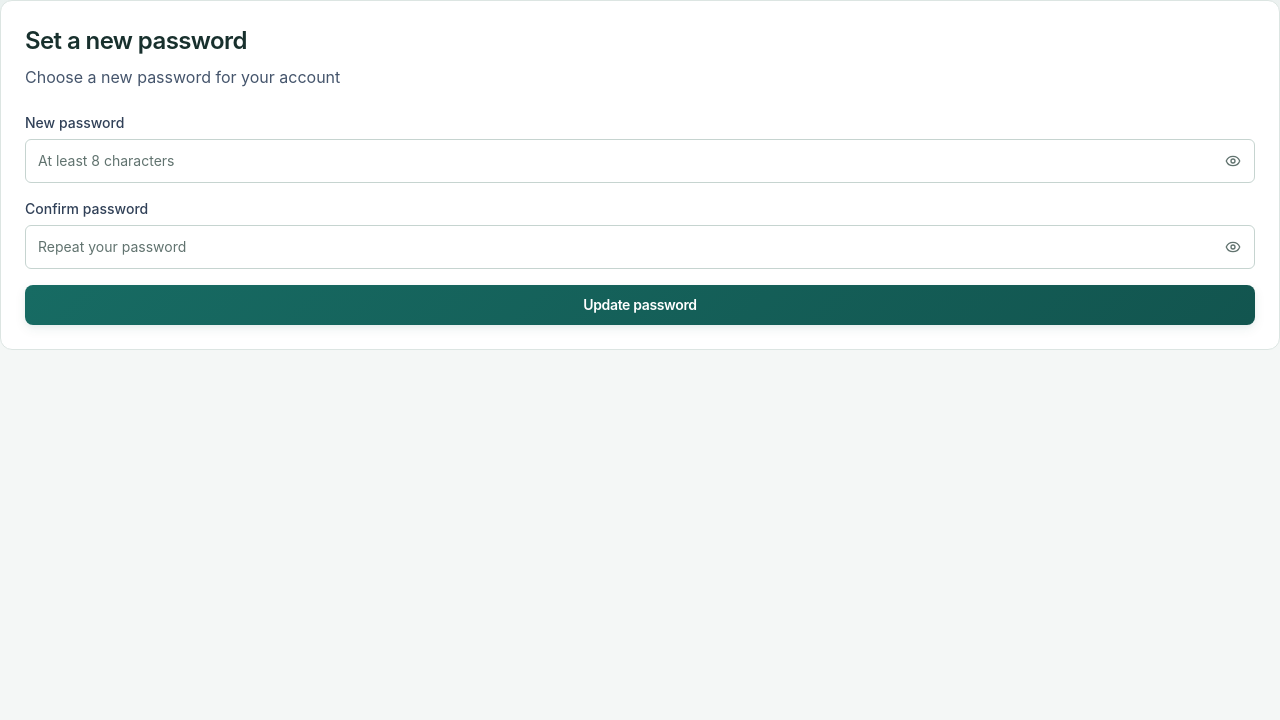
it: AuthPanel › update-password mode renders the set-new-password form without tabs
Expected: the heading "Set a new password" is shown, x1=25 y1=26 x2=247 y2=55
Expected: the password field labelled "Confirm password" is shown, x1=25 y1=225 x2=1255 y2=269
Step 1. Type "newpassword1" into the password field labelled "New password" → (640, 161), box x1=25 y1=139 x2=1255 y2=183
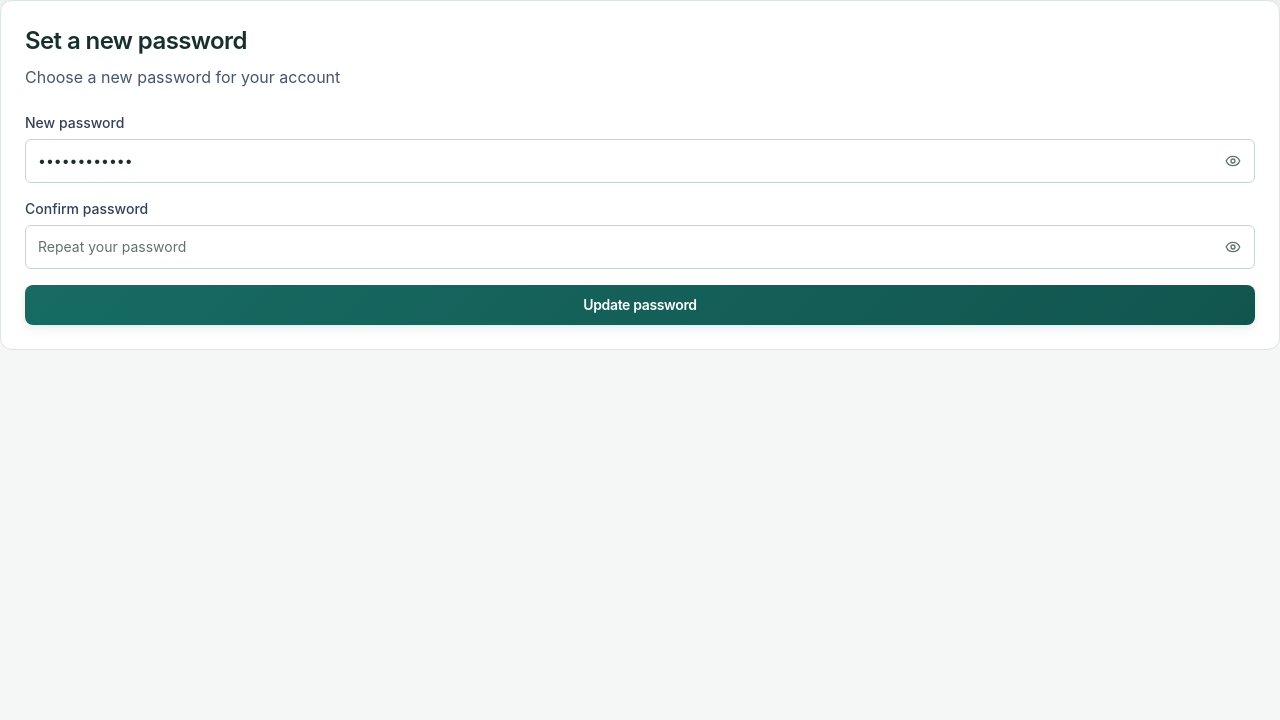
Step 2. Type "newpassword1" into the password field labelled "Confirm password" → (640, 247), box x1=25 y1=225 x2=1255 y2=269
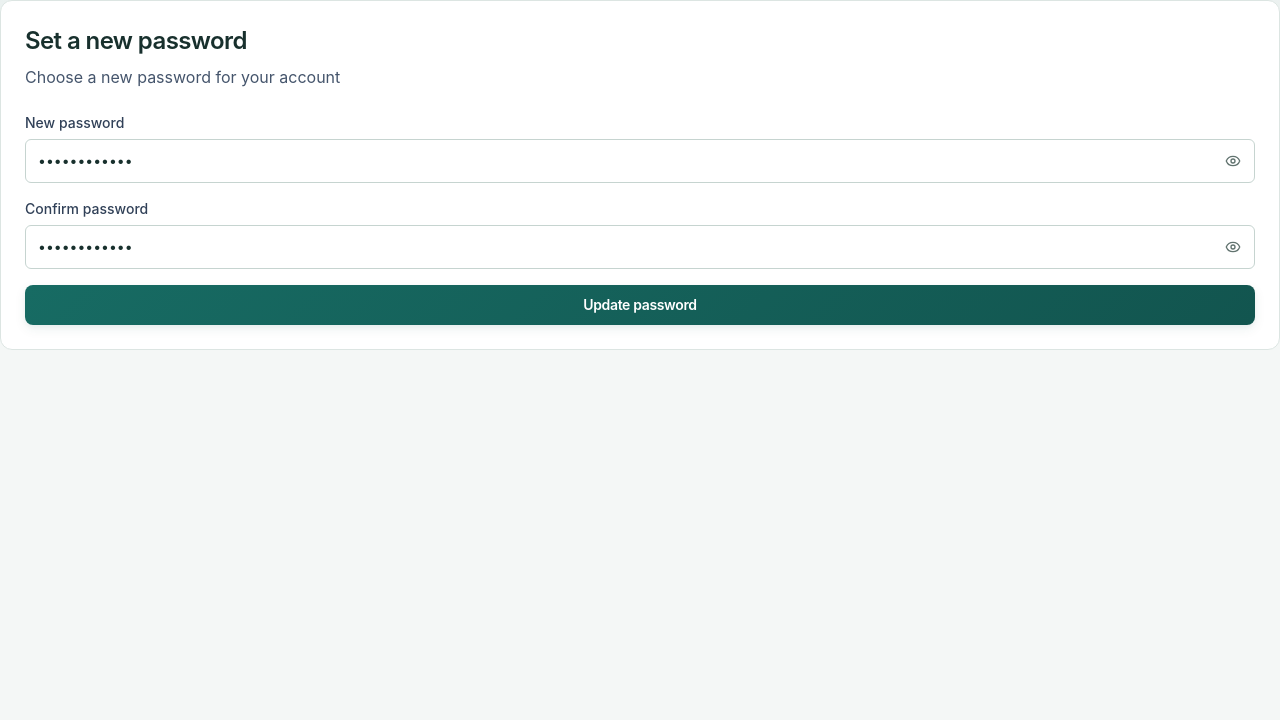
Step 3. Click the button "Update password" → (640, 305), box x1=25 y1=285 x2=1255 y2=325
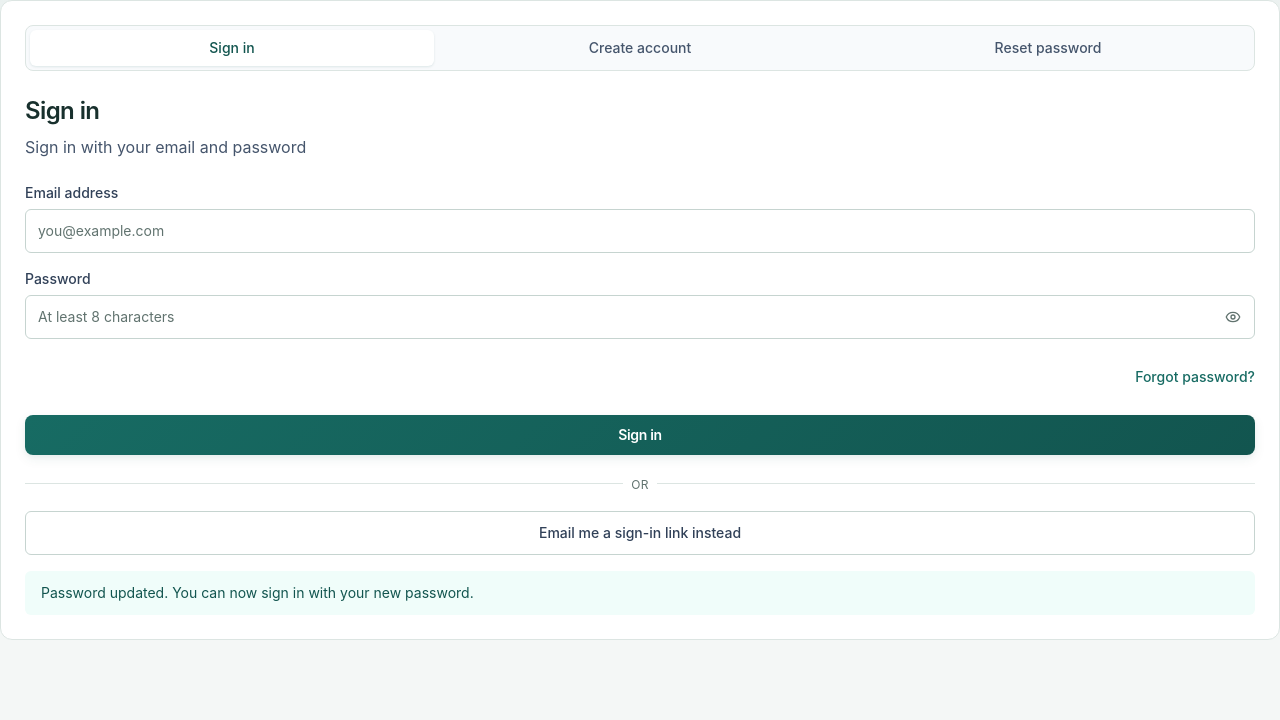
Result: the message shows "Password updated" at x1=41 y1=584 x2=474 y2=601
Result: the heading "Sign in" is shown at x1=25 y1=96 x2=99 y2=125
